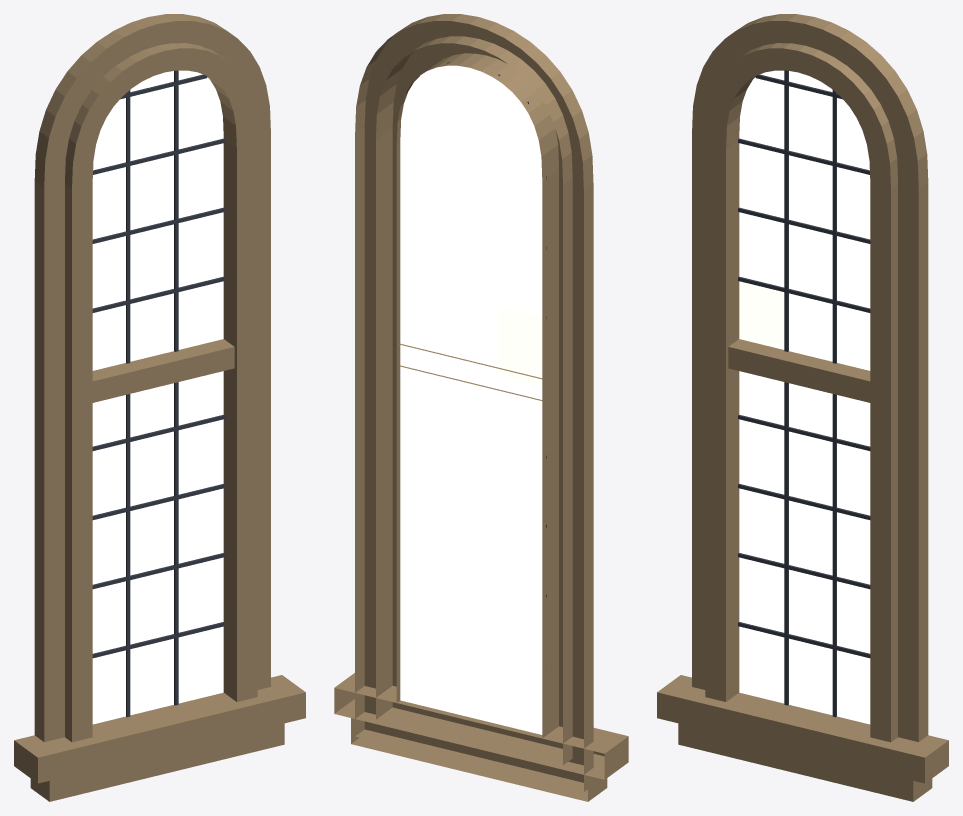
The model's file is window_0_7x3.glb.
3 renders of one model, left to right at view 1: azimuth 30°, elevation 25°; view 2: azimuth 150°, elevation 25°; view 3: azimuth 330°, elevation 25°, orthographic.
Parts seen in each view (by area): view 1: window_0_7x3; view 2: window_0_7x3; view 3: window_0_7x3.
Boxes of the visible parts, box(x1,y1,x2,y2) form: window_0_7x3: box(14, 14, 305, 801); window_0_7x3: box(334, 14, 628, 801); window_0_7x3: box(657, 14, 948, 801).
Size of the model in its own units: 1.3 by 3.44 by 0.2.
